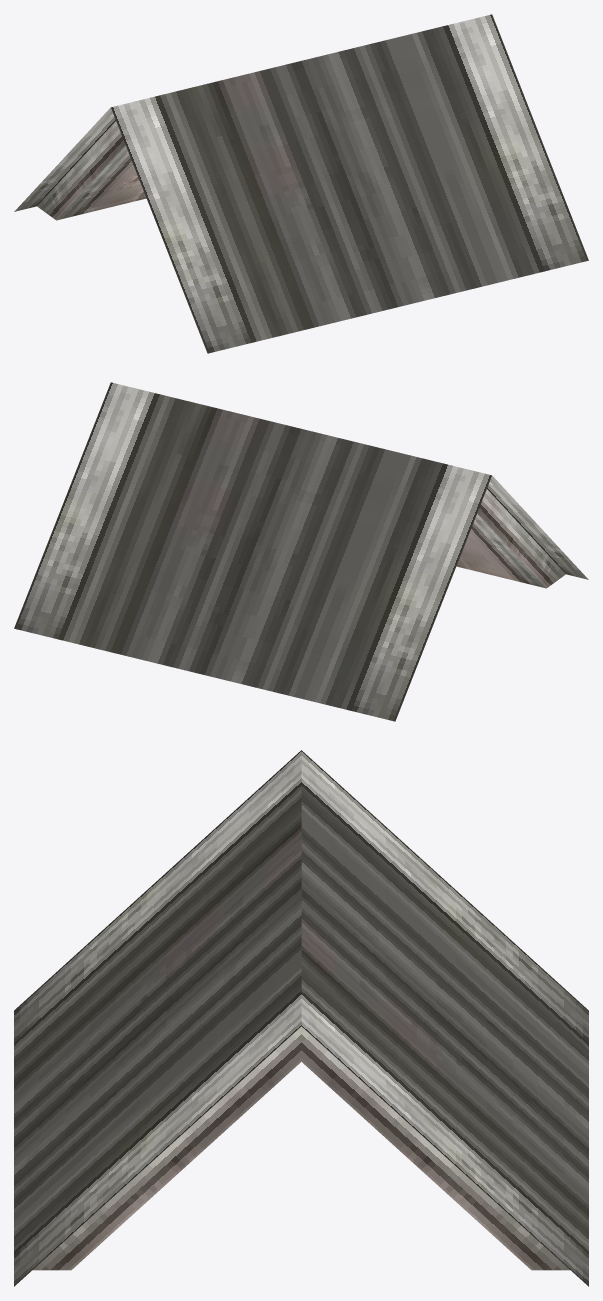
File: kenney-retro-urban-roof-metal-type-b.glb
3 renders of one model, top to bottom at view 1: azimuth 30°, elevation 25°; view 2: azimuth 150°, elevation 25°; view 3: azimuth 270°, elevation 25°, orthographic. The views are drawn at different scales.
Parts seen in each view (by area): view 1: roof-metal-type-b; view 2: roof-metal-type-b; view 3: roof-metal-type-b.
Part boxes in pixels (bbox=[...]): roof-metal-type-b: bbox=[14, 14, 588, 353]; roof-metal-type-b: bbox=[14, 382, 588, 721]; roof-metal-type-b: bbox=[14, 750, 588, 1286].
Size of the model in its own units: 1.14 by 0.5001 by 1.
3 materials, 3 textured.
